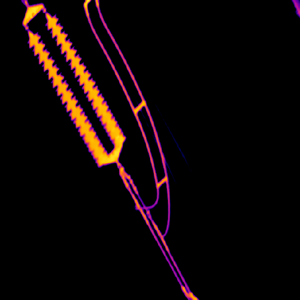insulator: (26, 10, 121, 163)
